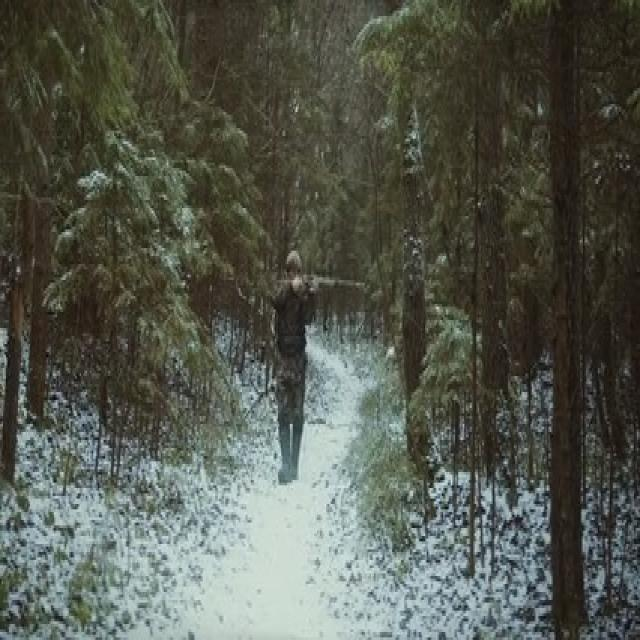Gun_Holder: (285, 269, 366, 307)
Person: (267, 249, 313, 477)
